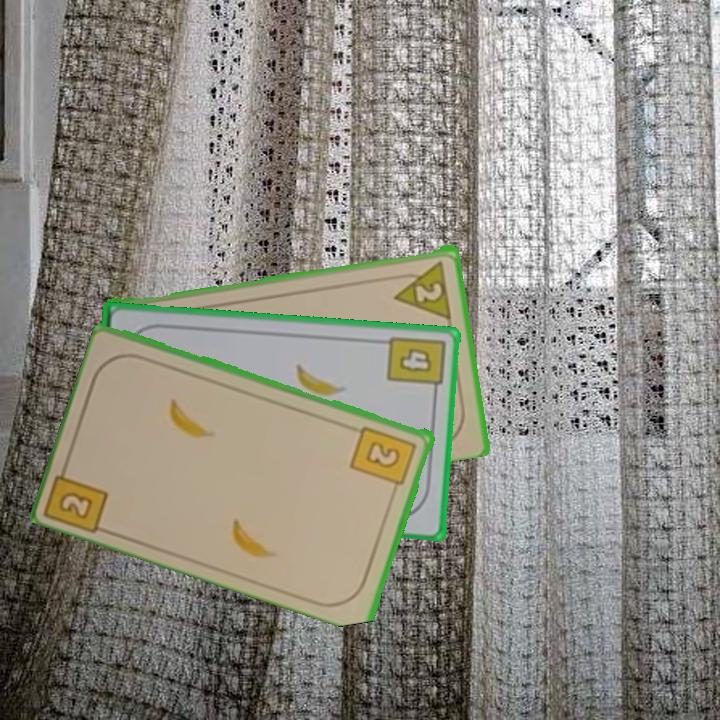2b: (347, 422, 420, 496), (44, 455, 112, 534)
2p: (389, 256, 454, 320)
4b: (383, 332, 447, 399)
